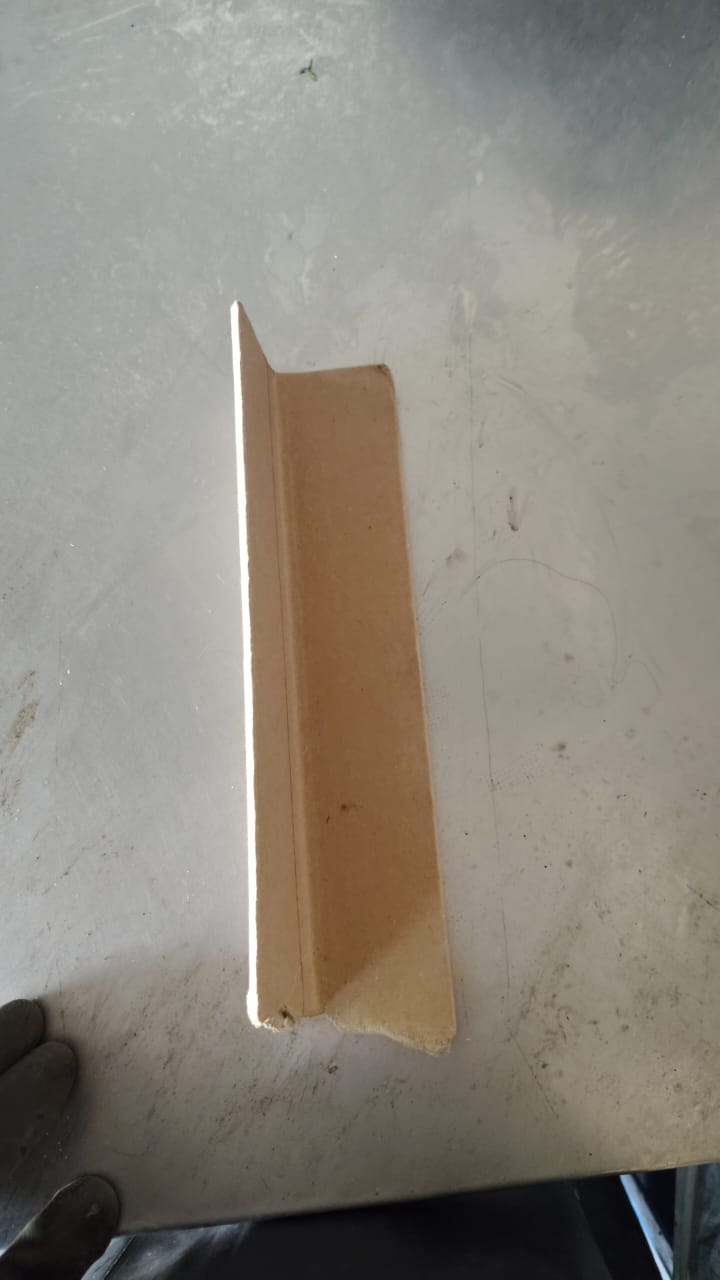Carton: (227, 303, 453, 1053)
